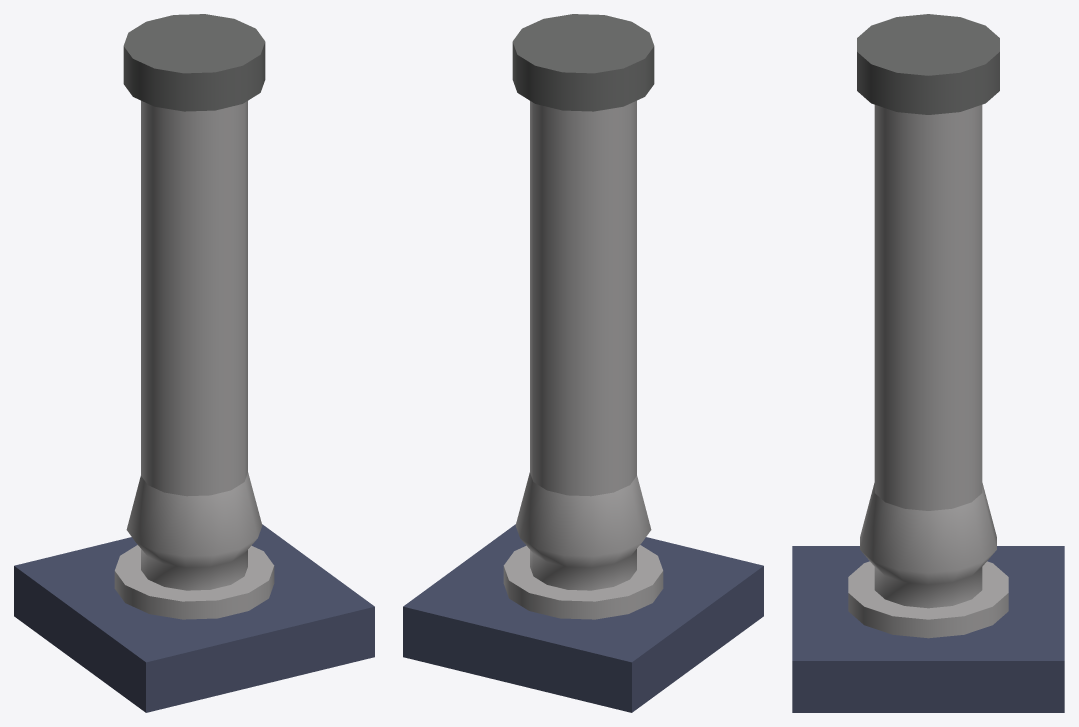
Rendered from Exhausts_Pipe_02.fbx.
3 views of the same model, side by side, from view 1: azimuth 30°, elevation 25°; view 2: azimuth 150°, elevation 25°; view 3: azimuth 270°, elevation 25° (orthographic). The views are drawn at different scales.
Visible parts, largest first — view 1: Exhausts_Pipe_02; view 2: Exhausts_Pipe_02; view 3: Exhausts_Pipe_02.
Part boxes in pixels (left/top/right/bottom): Exhausts_Pipe_02: left=14, top=14, right=374, bottom=712; Exhausts_Pipe_02: left=403, top=14, right=763, bottom=712; Exhausts_Pipe_02: left=792, top=14, right=1064, bottom=712.
Size of the model in its own units: 161 by 398 by 161.
